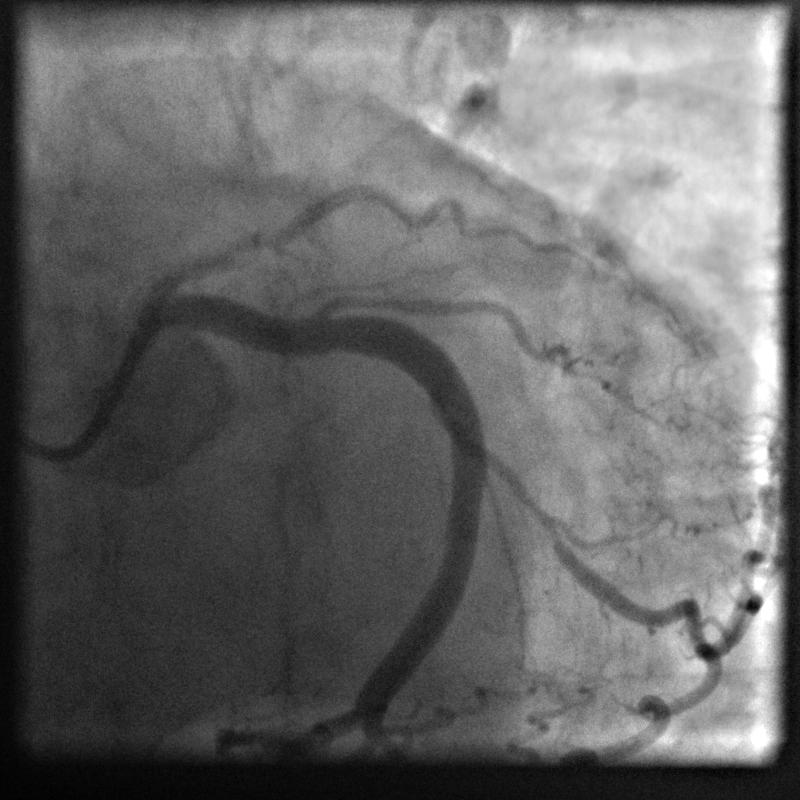Stenosis: (463, 418, 568, 552)
